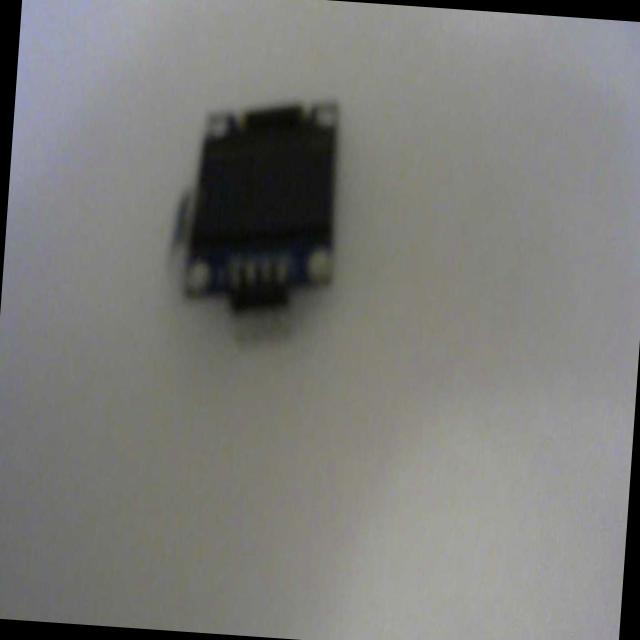oled: (159, 92, 354, 346)
